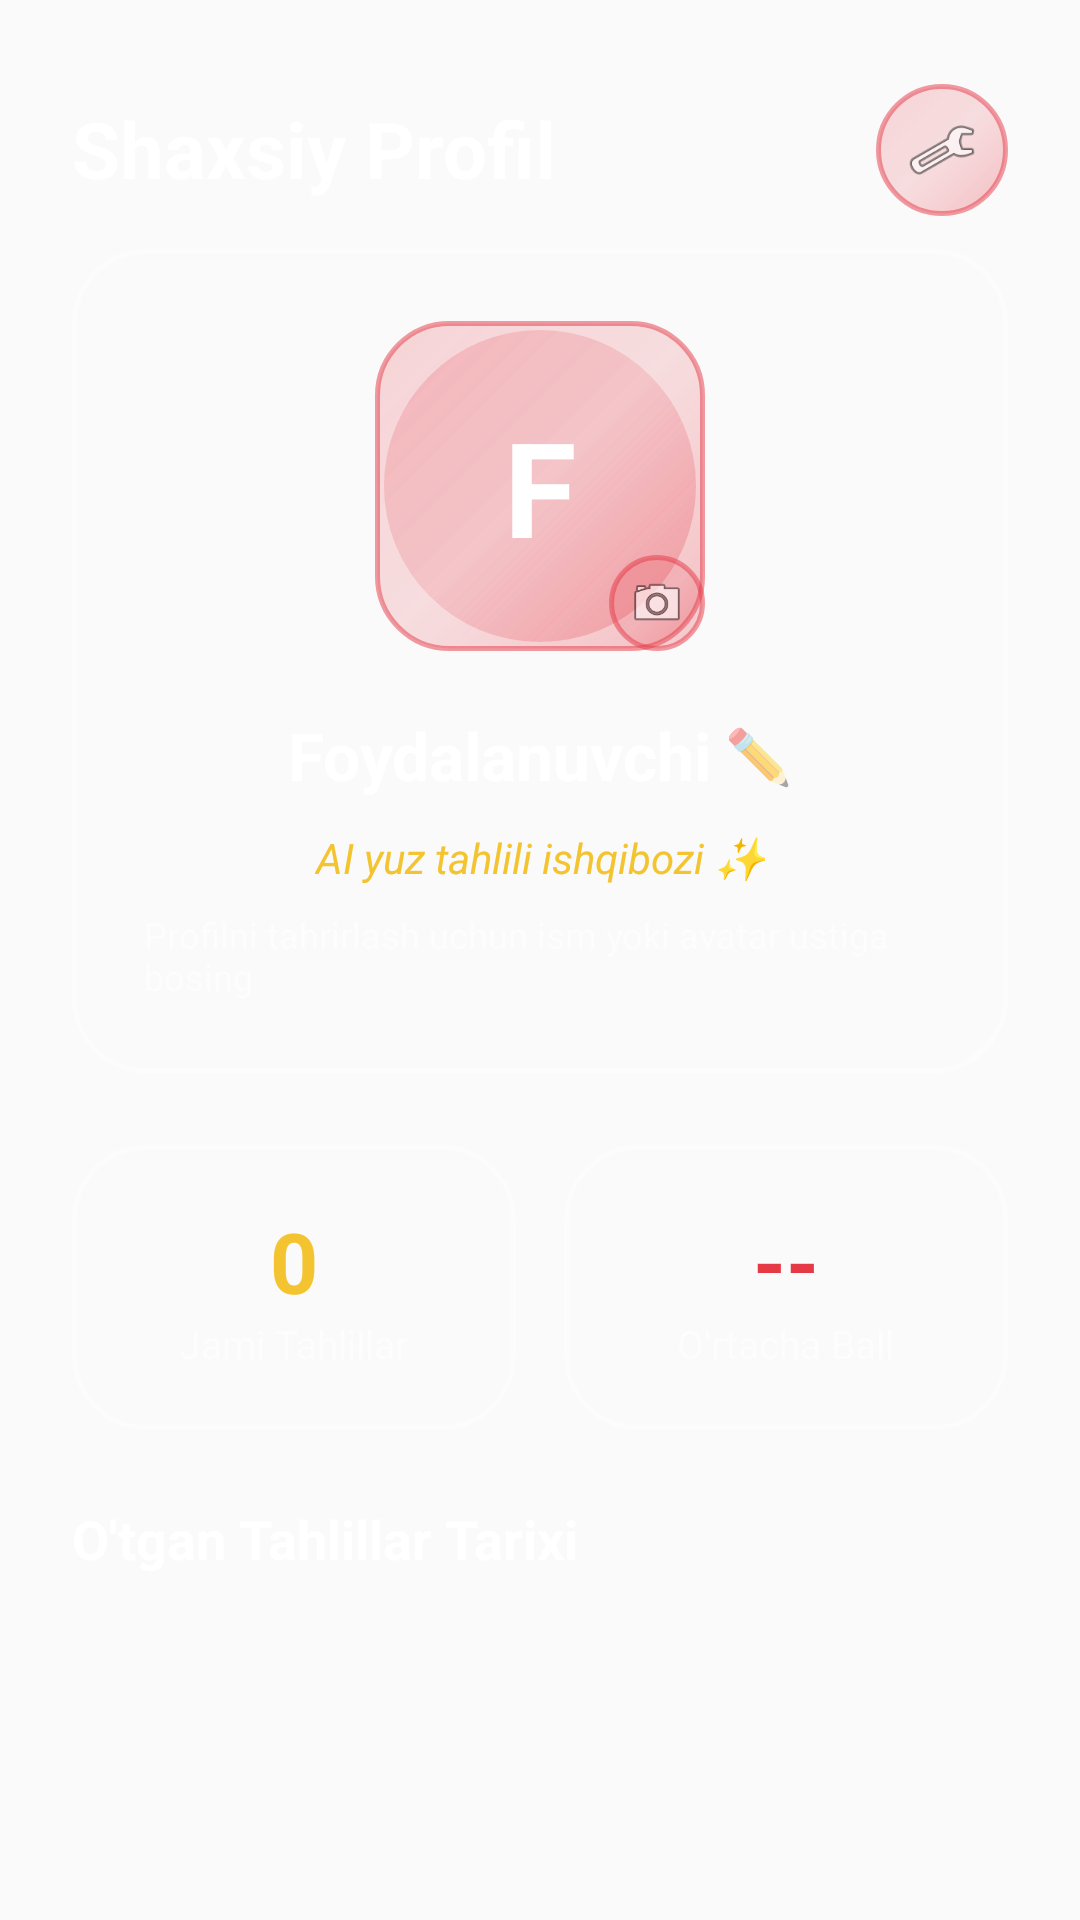

Screen size 1080px x 1920px. Icon name, then its box in pixels as (x1, y1, x2, y2):
preferences: (876, 84, 1008, 216)
